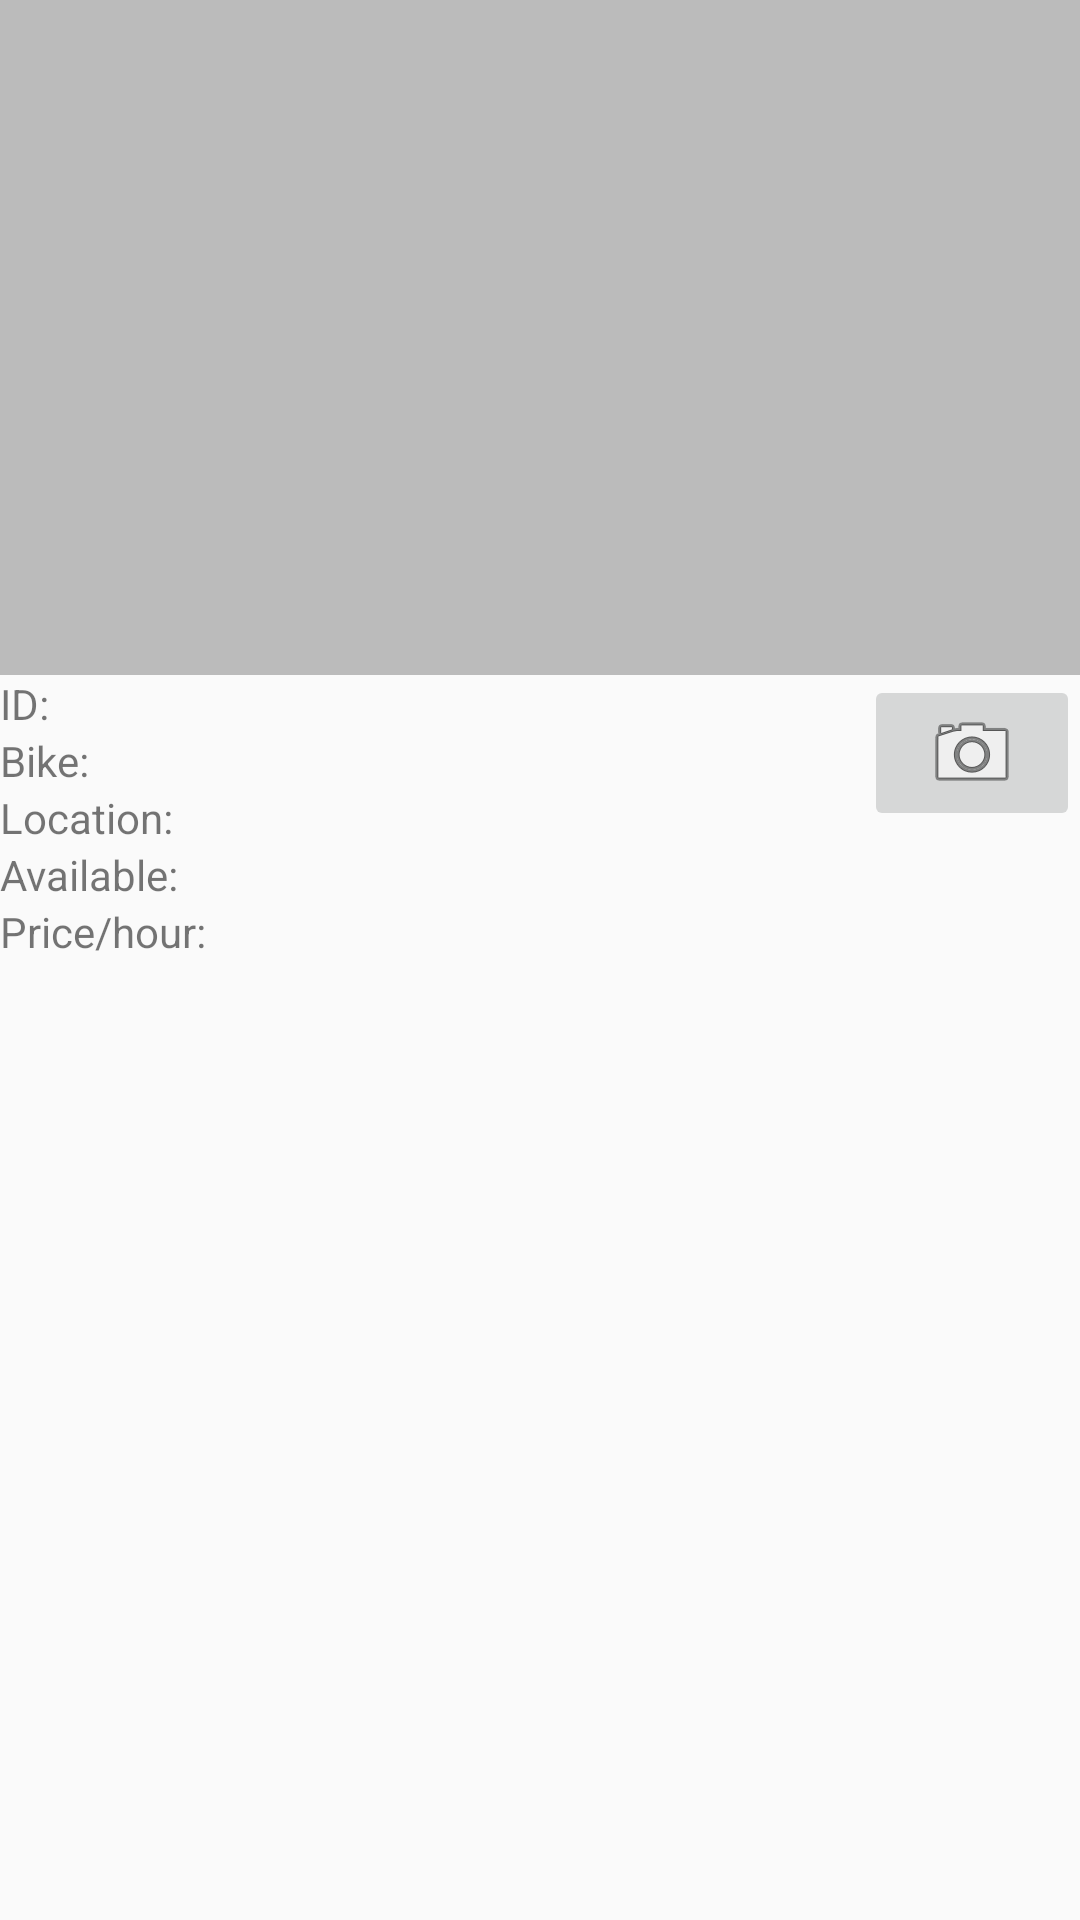

Point at icon controls on the screen. Image size 1080px×1920px, points as (x=x, y=y).
camera: (x=972, y=753)
